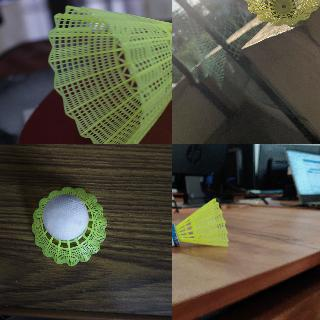shuttlecock: (48, 4, 171, 143), (30, 186, 106, 266), (172, 199, 230, 248), (242, 0, 319, 26)
